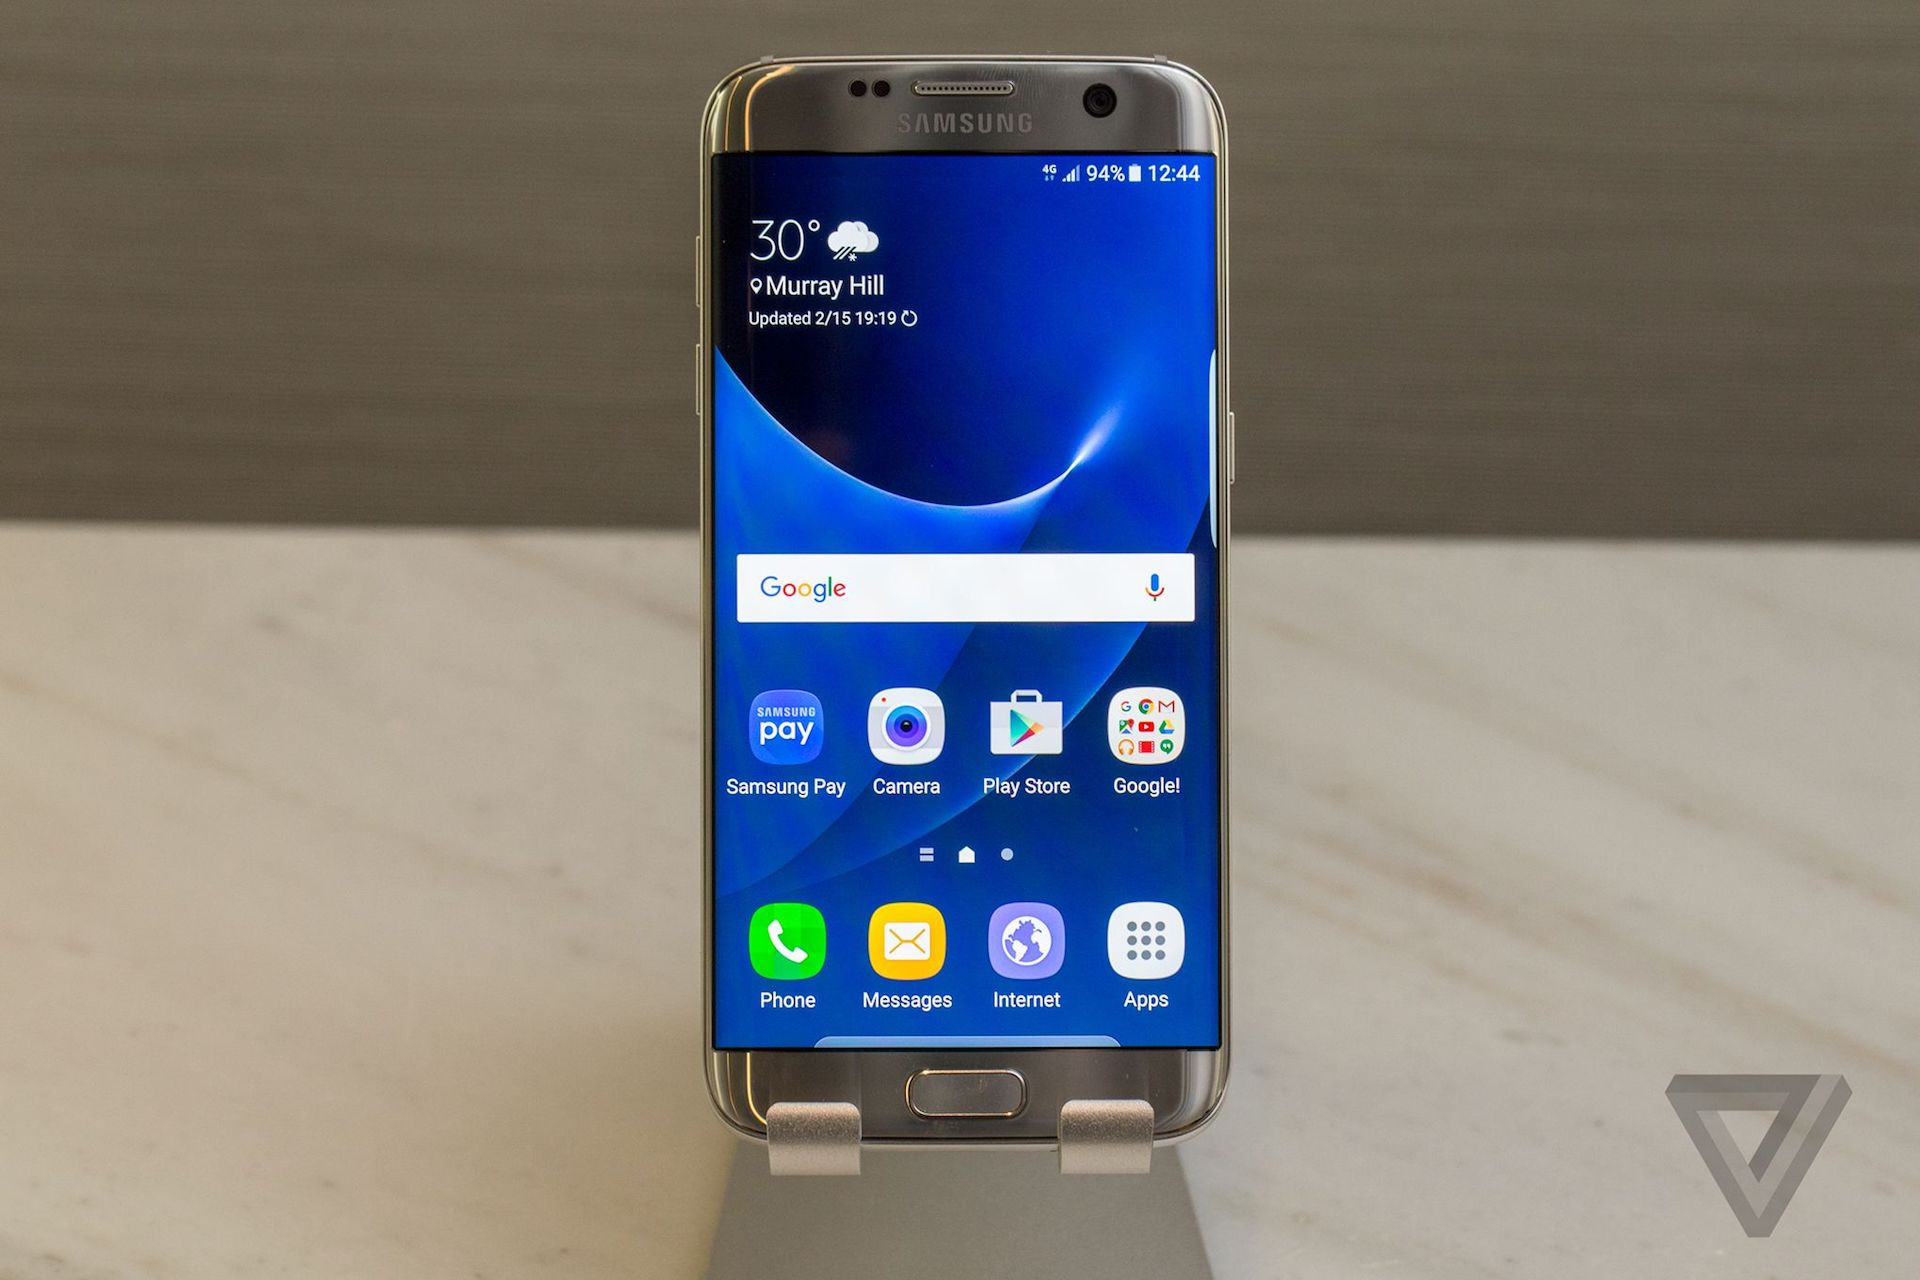smartphone: (693, 50, 1239, 1159)
